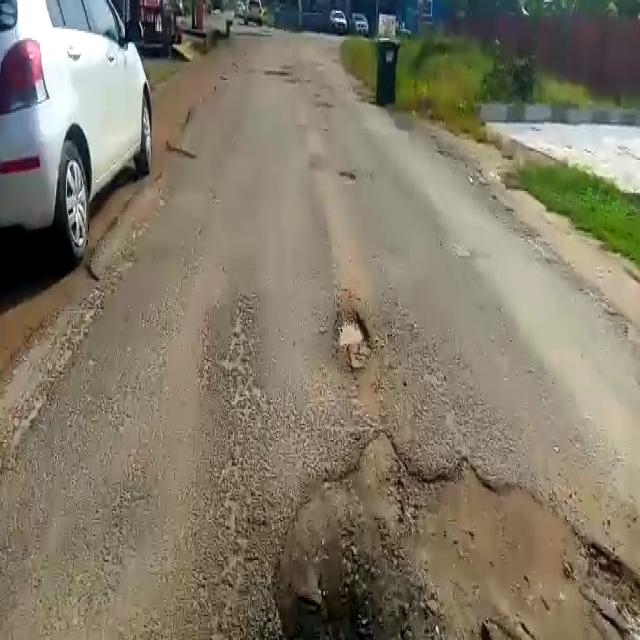Pothole: (269, 430, 640, 640), (334, 304, 374, 374)
